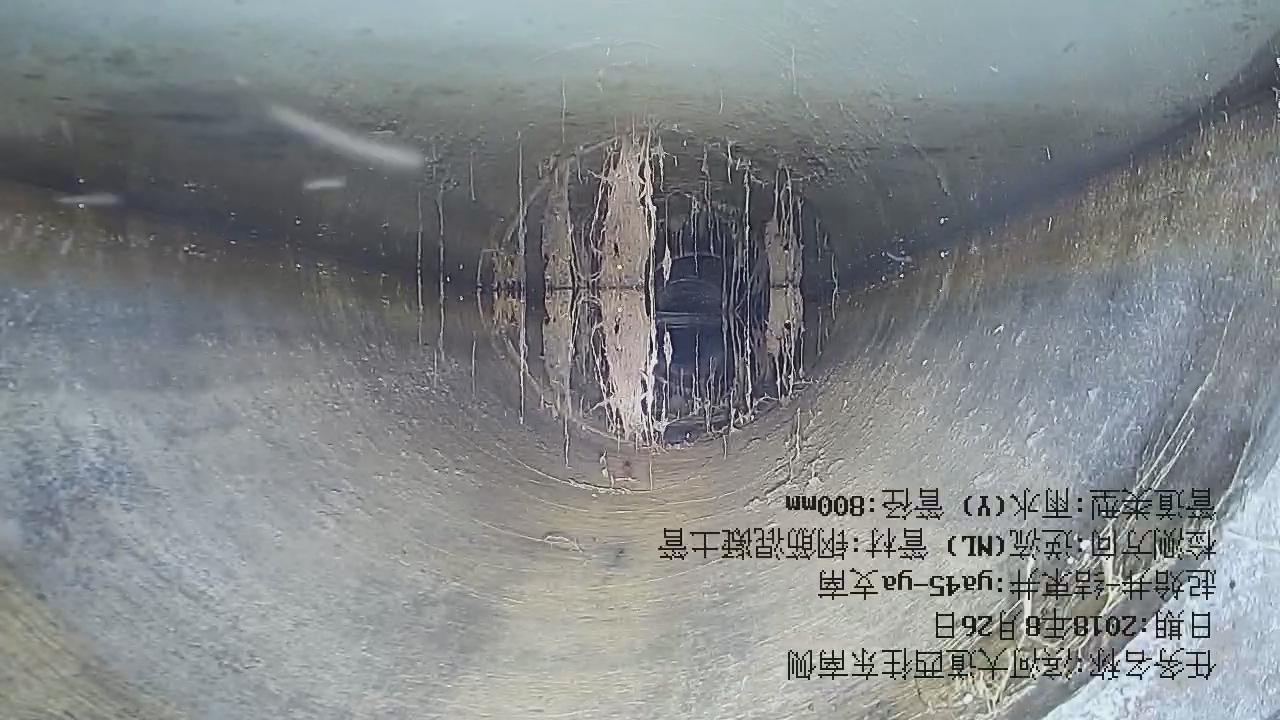SG: (487, 138, 805, 449)
